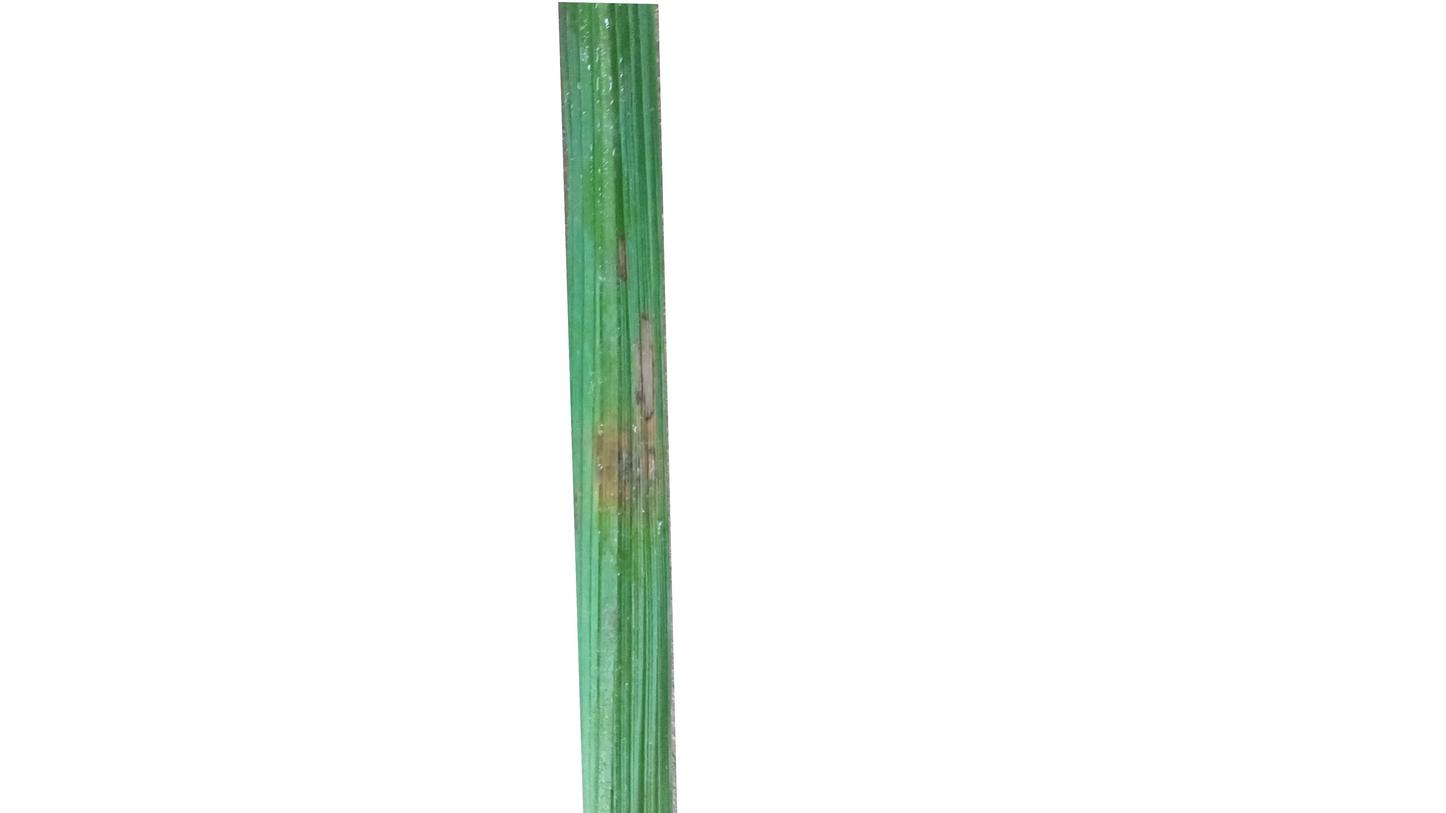Rice blast: (592, 309, 659, 559), (613, 229, 631, 291)
